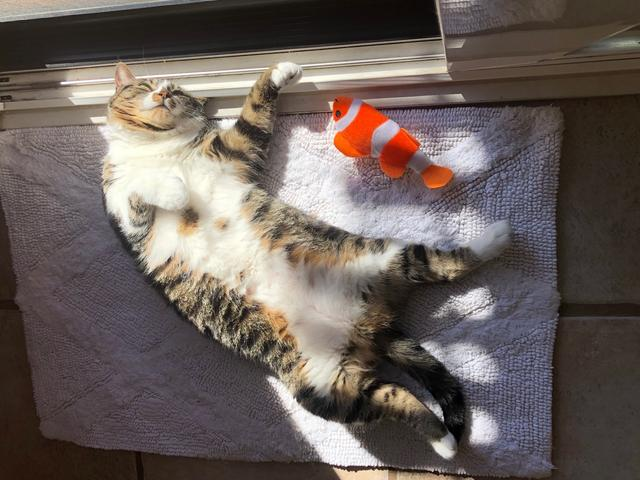clownfish: (329, 90, 454, 190)
playdoh: (99, 60, 512, 462)
